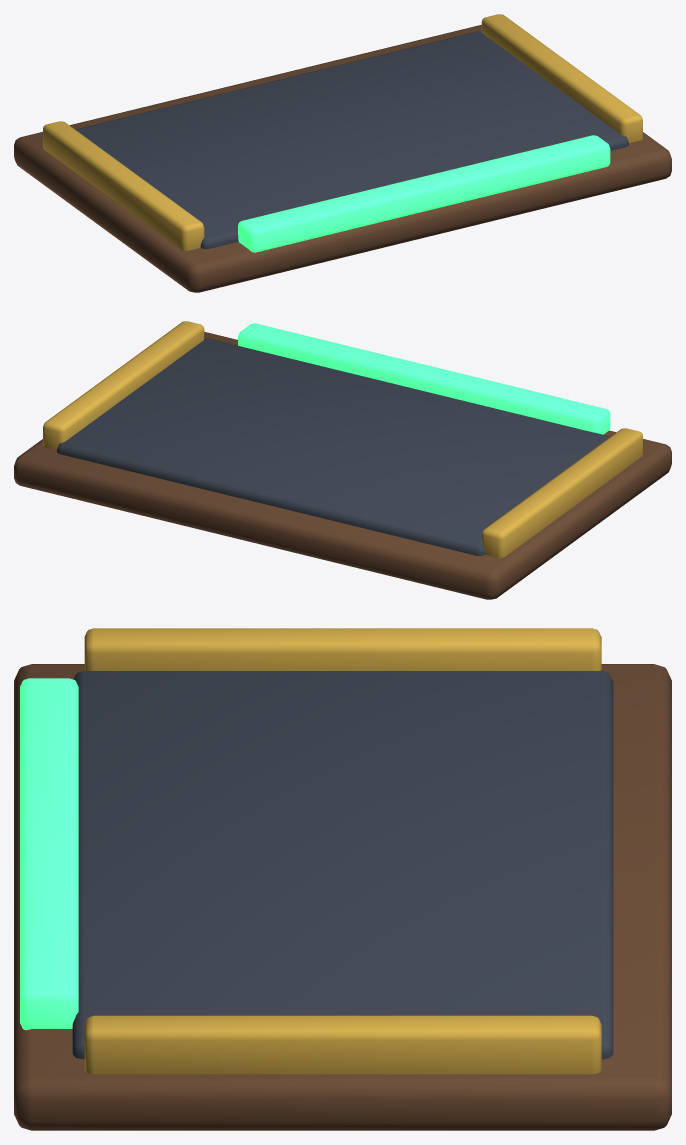
File: Affordance_DeskReceivePad.fbx
The picture shows the model from 3 angles, top to bottom: view 1: azimuth 30°, elevation 25°; view 2: azimuth 150°, elevation 25°; view 3: azimuth 270°, elevation 25°; orthographic projection. The views are drawn at different scales.
Visible parts, largest first — view 1: ReceivePad_FeltSlate, ReceivePad_DarkWood, ReceivePad_StatusBar, ReceivePad_Brass; view 2: ReceivePad_FeltSlate, ReceivePad_DarkWood, ReceivePad_Brass, ReceivePad_StatusBar; view 3: ReceivePad_FeltSlate, ReceivePad_DarkWood, ReceivePad_Brass, ReceivePad_StatusBar.
Part boxes in pixels (x1,y1,x2,y2): ReceivePad_FeltSlate: (75, 31, 628, 248); ReceivePad_DarkWood: (14, 25, 671, 292); ReceivePad_StatusBar: (238, 135, 610, 252); ReceivePad_Brass: (43, 14, 642, 250); ReceivePad_FeltSlate: (57, 338, 610, 555); ReceivePad_DarkWood: (14, 332, 671, 599); ReceivePad_Brass: (43, 321, 642, 557); ReceivePad_StatusBar: (238, 323, 610, 434); ReceivePad_FeltSlate: (72, 670, 613, 1059); ReceivePad_DarkWood: (14, 664, 671, 1130); ReceivePad_Brass: (84, 628, 601, 1074); ReceivePad_StatusBar: (20, 678, 78, 1030).
Bounding box in the file's own units: 8.6 × 0.9 × 5.6.
